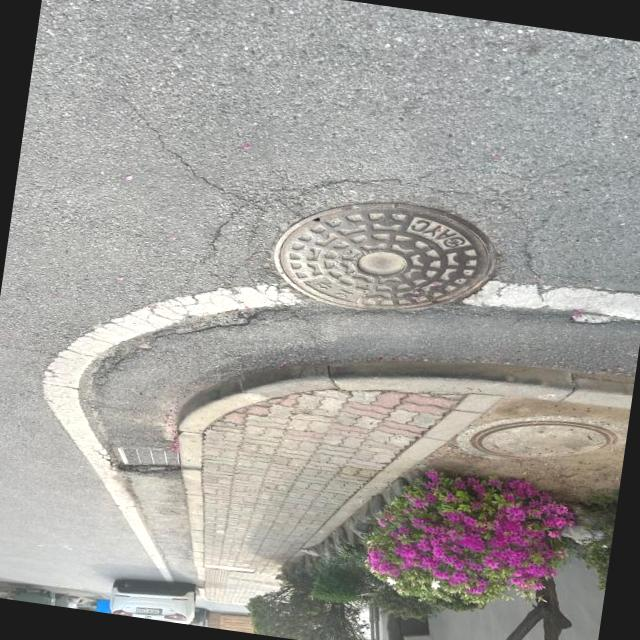manhole: (246, 174, 512, 362)
